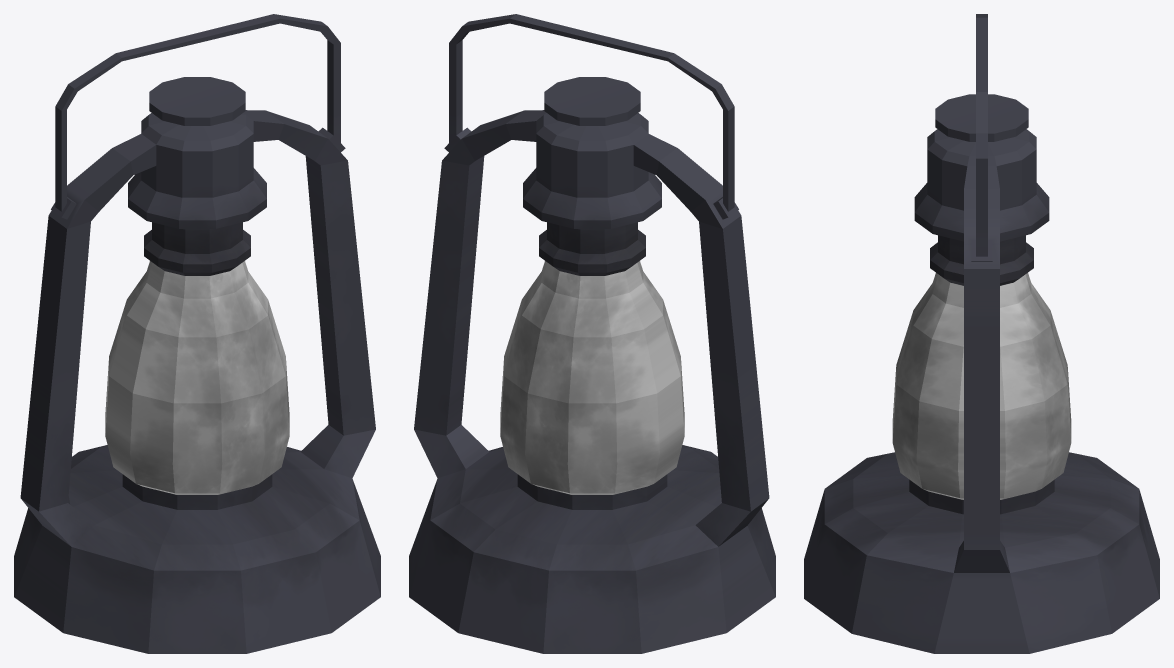
File: 3dmodel_kerosenelamp_v1_sc.fbx
3 renders of one model, left to right at view 1: azimuth 30°, elevation 25°; view 2: azimuth 150°, elevation 25°; view 3: azimuth 270°, elevation 25°, orthographic. The views are drawn at different scales.
Parts seen in each view (by area): view 1: kerosenelamp; view 2: kerosenelamp; view 3: kerosenelamp.
Part boxes in pixels (x1,y1,x2,y2): kerosenelamp: (14, 14, 380, 653); kerosenelamp: (409, 14, 775, 653); kerosenelamp: (804, 14, 1159, 653).
Bounding box in the file's own units: 0.2557 × 0.392 × 0.2409.
